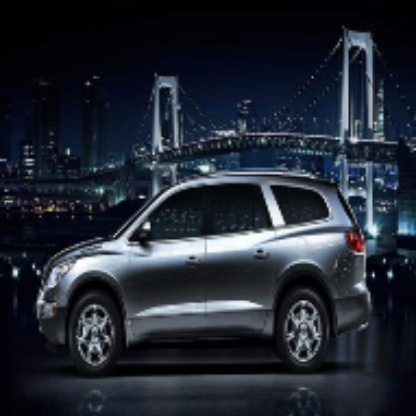Vehicle: (36, 167, 375, 377)
